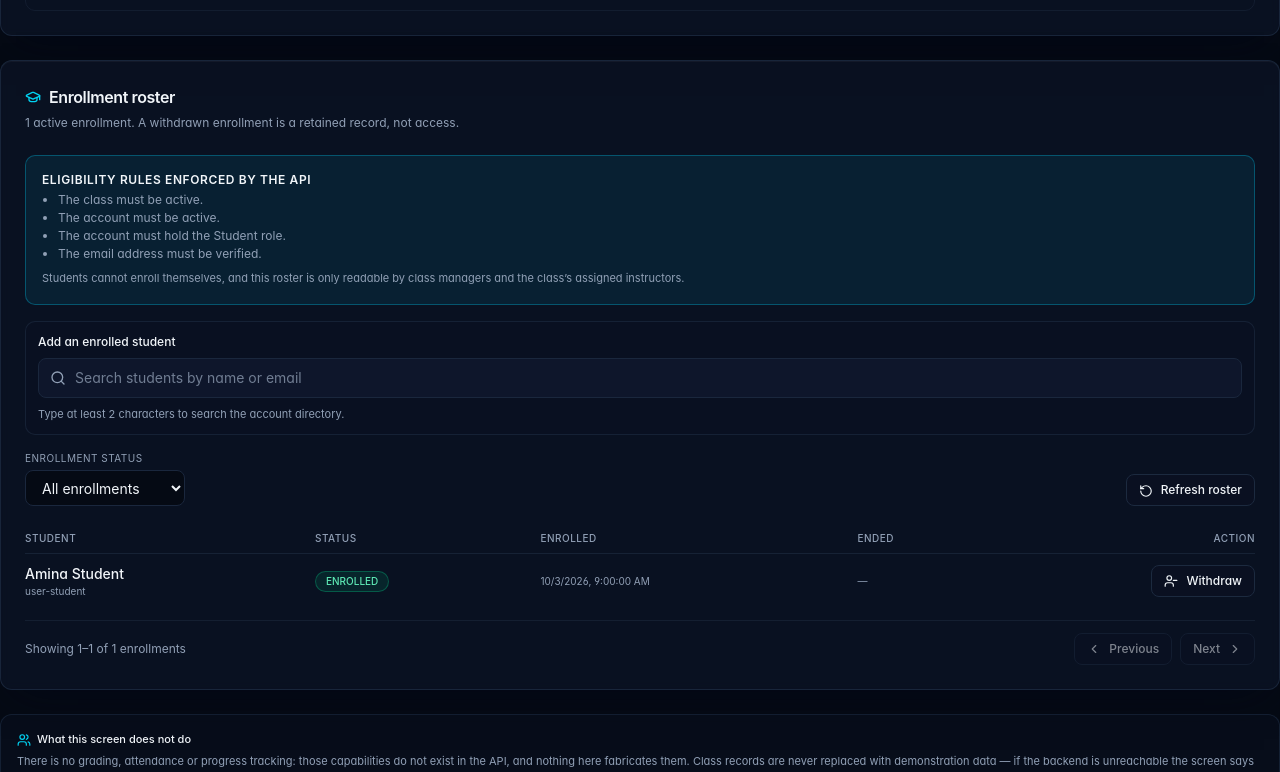
Test: Enrollment administration › blocks an unverified student before the API can reject them
(page scrolled)
Expected: the heading "Enrollment roster" is shown, left=25, top=87, right=175, bottom=107
Type "omar" into the search field named "Search student accounts" at coordinates (640, 378), box left=38, top=358, right=1242, bottom=398
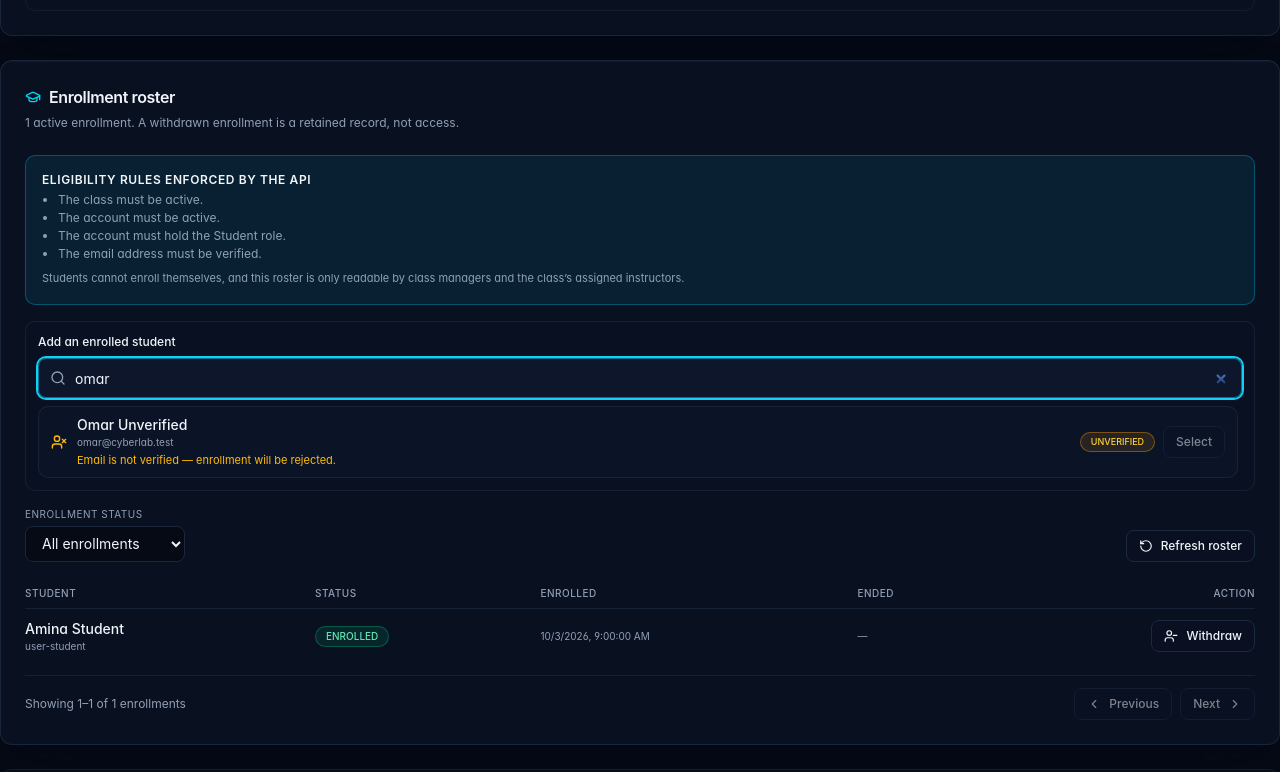
Expected: the text "Email is not verified — enrollment will be rejected." is shown, left=77, top=452, right=336, bottom=469
Expected: the button with aria-label "Select Omar Unverified" is disabled, left=1163, top=426, right=1225, bottom=458
